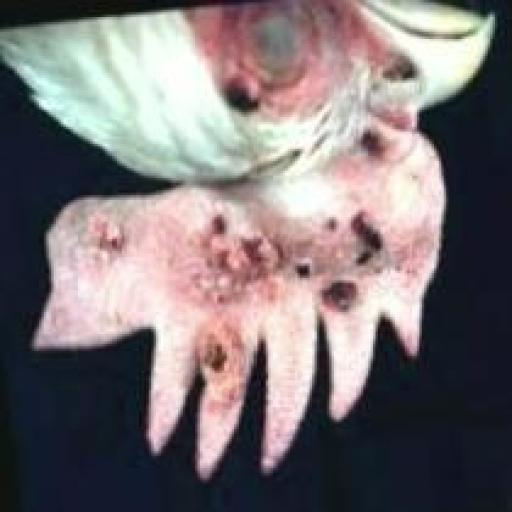disease: (174, 3, 348, 65), (178, 325, 258, 433), (191, 203, 280, 294), (312, 206, 400, 268), (284, 254, 364, 316), (222, 72, 284, 128), (348, 133, 409, 182), (84, 224, 145, 267), (381, 55, 437, 97)
